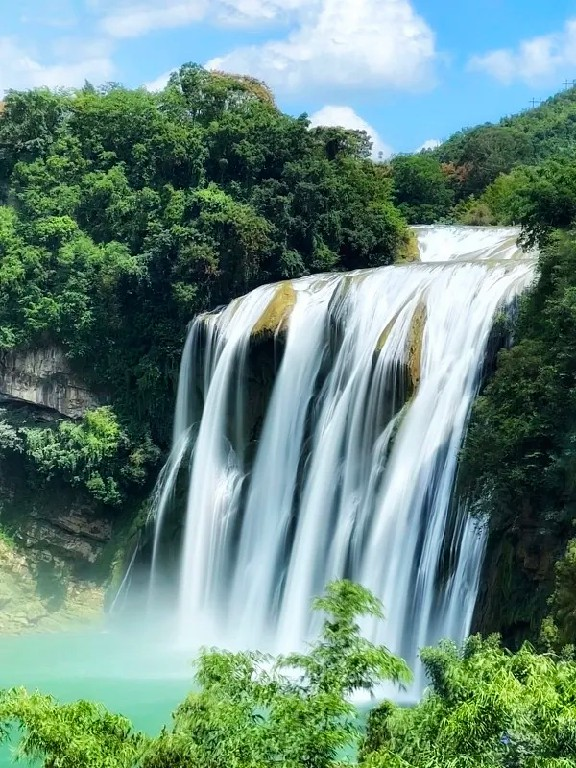Huangguoshu: (154, 226, 539, 652)
